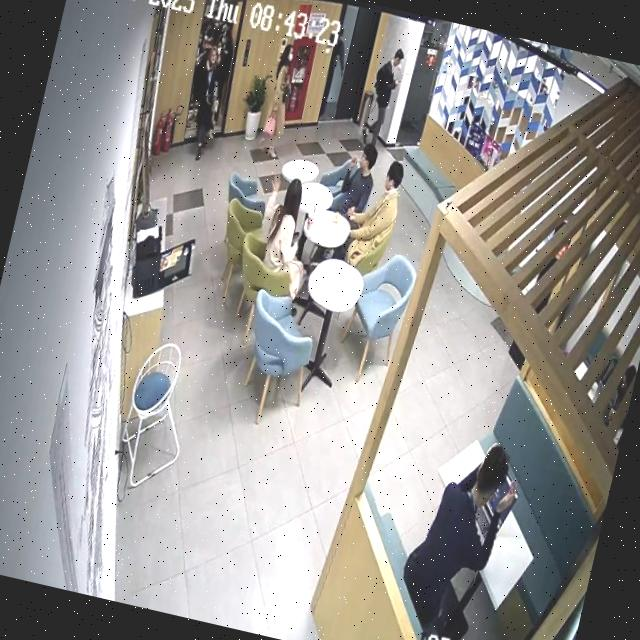person: (386, 428, 529, 640), (245, 164, 329, 299), (336, 152, 410, 278), (177, 41, 234, 164), (359, 43, 409, 154), (258, 43, 305, 160), (329, 139, 383, 221)
